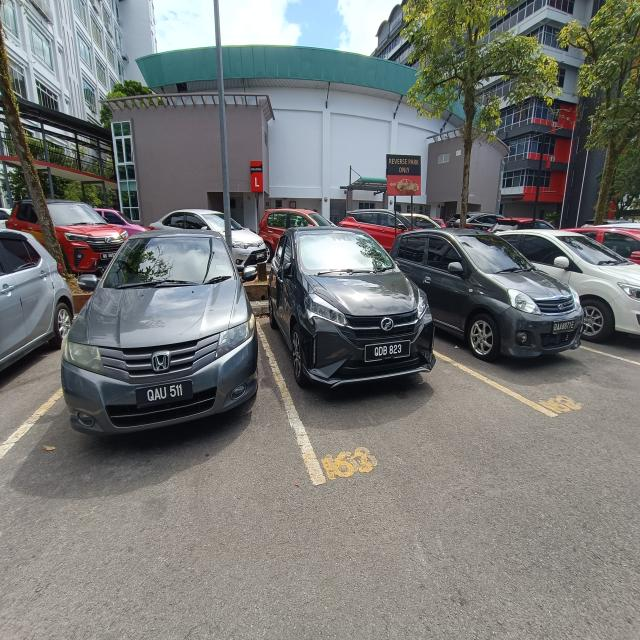PeroduaMyvi: (264, 221, 446, 412), (385, 226, 590, 381)
